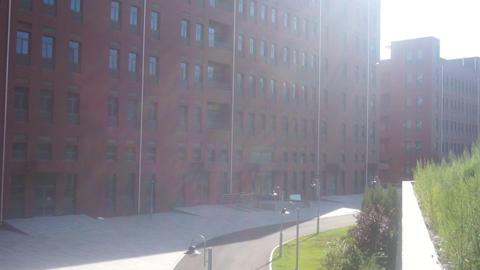UAV: (376, 59, 389, 65)
